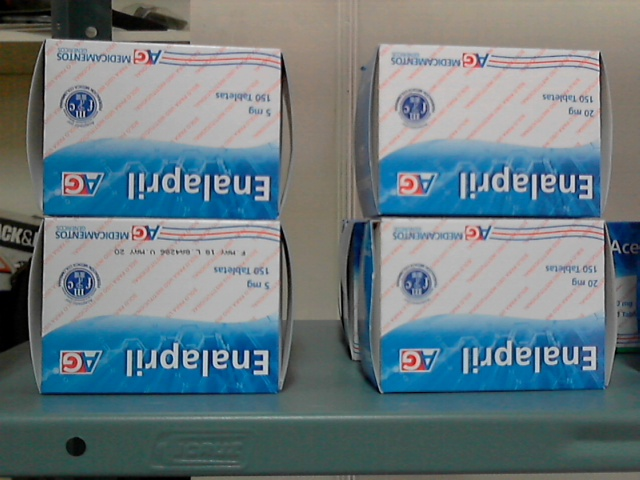AG: (46, 41, 280, 218), (44, 221, 280, 394), (379, 43, 600, 217), (382, 220, 603, 389)
